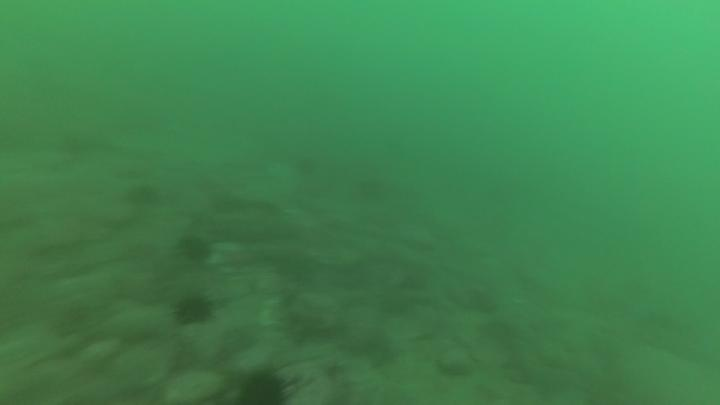echinus: (236, 368, 293, 404), (348, 172, 393, 210), (171, 292, 216, 329), (175, 232, 215, 267), (121, 180, 163, 211), (291, 152, 321, 180)
scallop: (162, 367, 227, 404)
